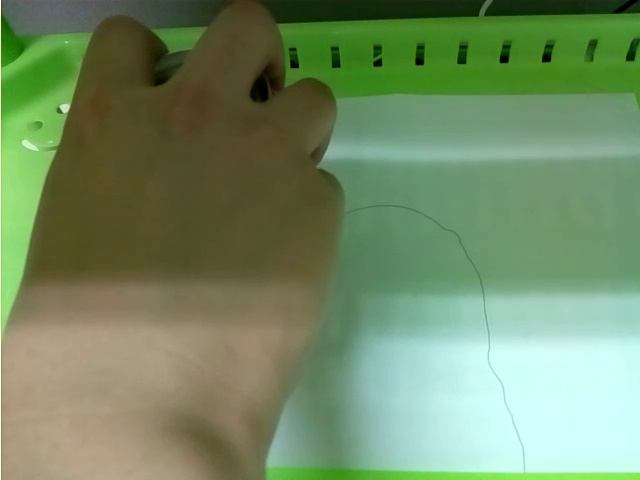hand: (5, 12, 346, 475)
